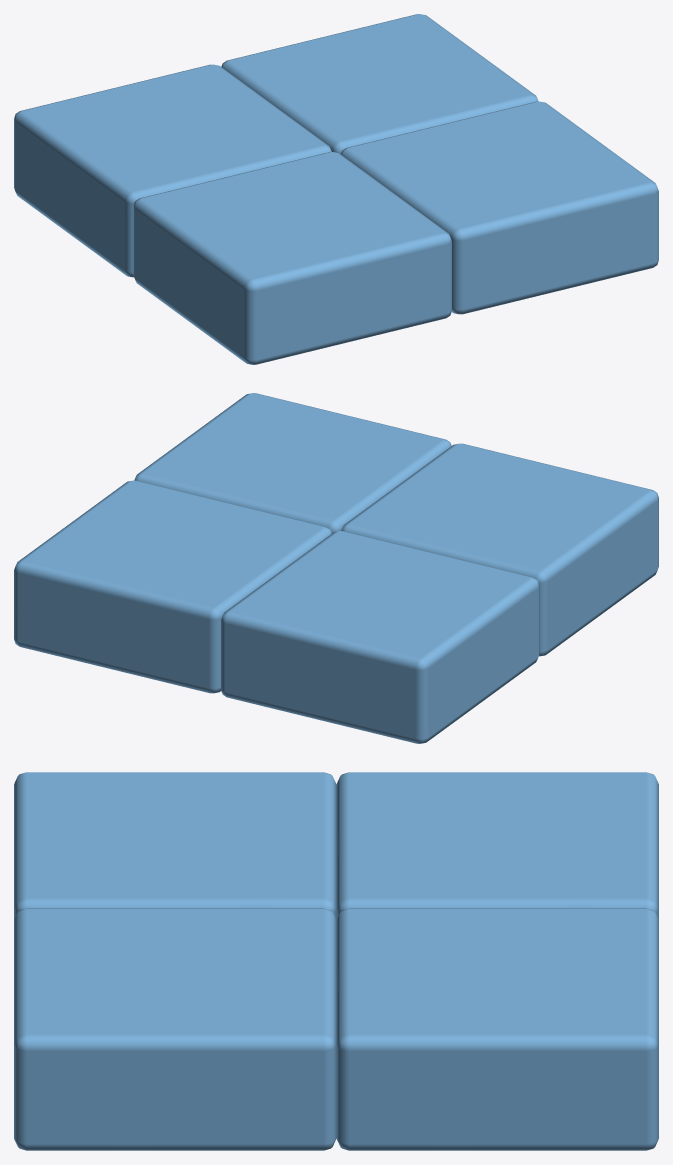
Rendered from cube_with_river.04.glb.
3 views of the same model, one above another, from view 1: azimuth 30°, elevation 25°; view 2: azimuth 150°, elevation 25°; view 3: azimuth 270°, elevation 25° (orthographic). The views are drawn at different scales.
Visible parts, largest first — view 1: Cube.259; view 2: Cube.259; view 3: Cube.259.
Boxes of the visible parts, x1,y1,x2,y2 form: Cube.259: (14, 14, 658, 364); Cube.259: (14, 393, 658, 743); Cube.259: (14, 772, 658, 1150).
Size of the model in its own units: 2 by 0.3972 by 2.
Materials: 1 (1 with a texture image).
